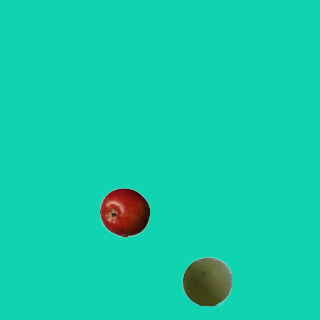Apple Braeburn: (99, 187, 149, 237)
Grape White 4: (181, 256, 231, 306)
